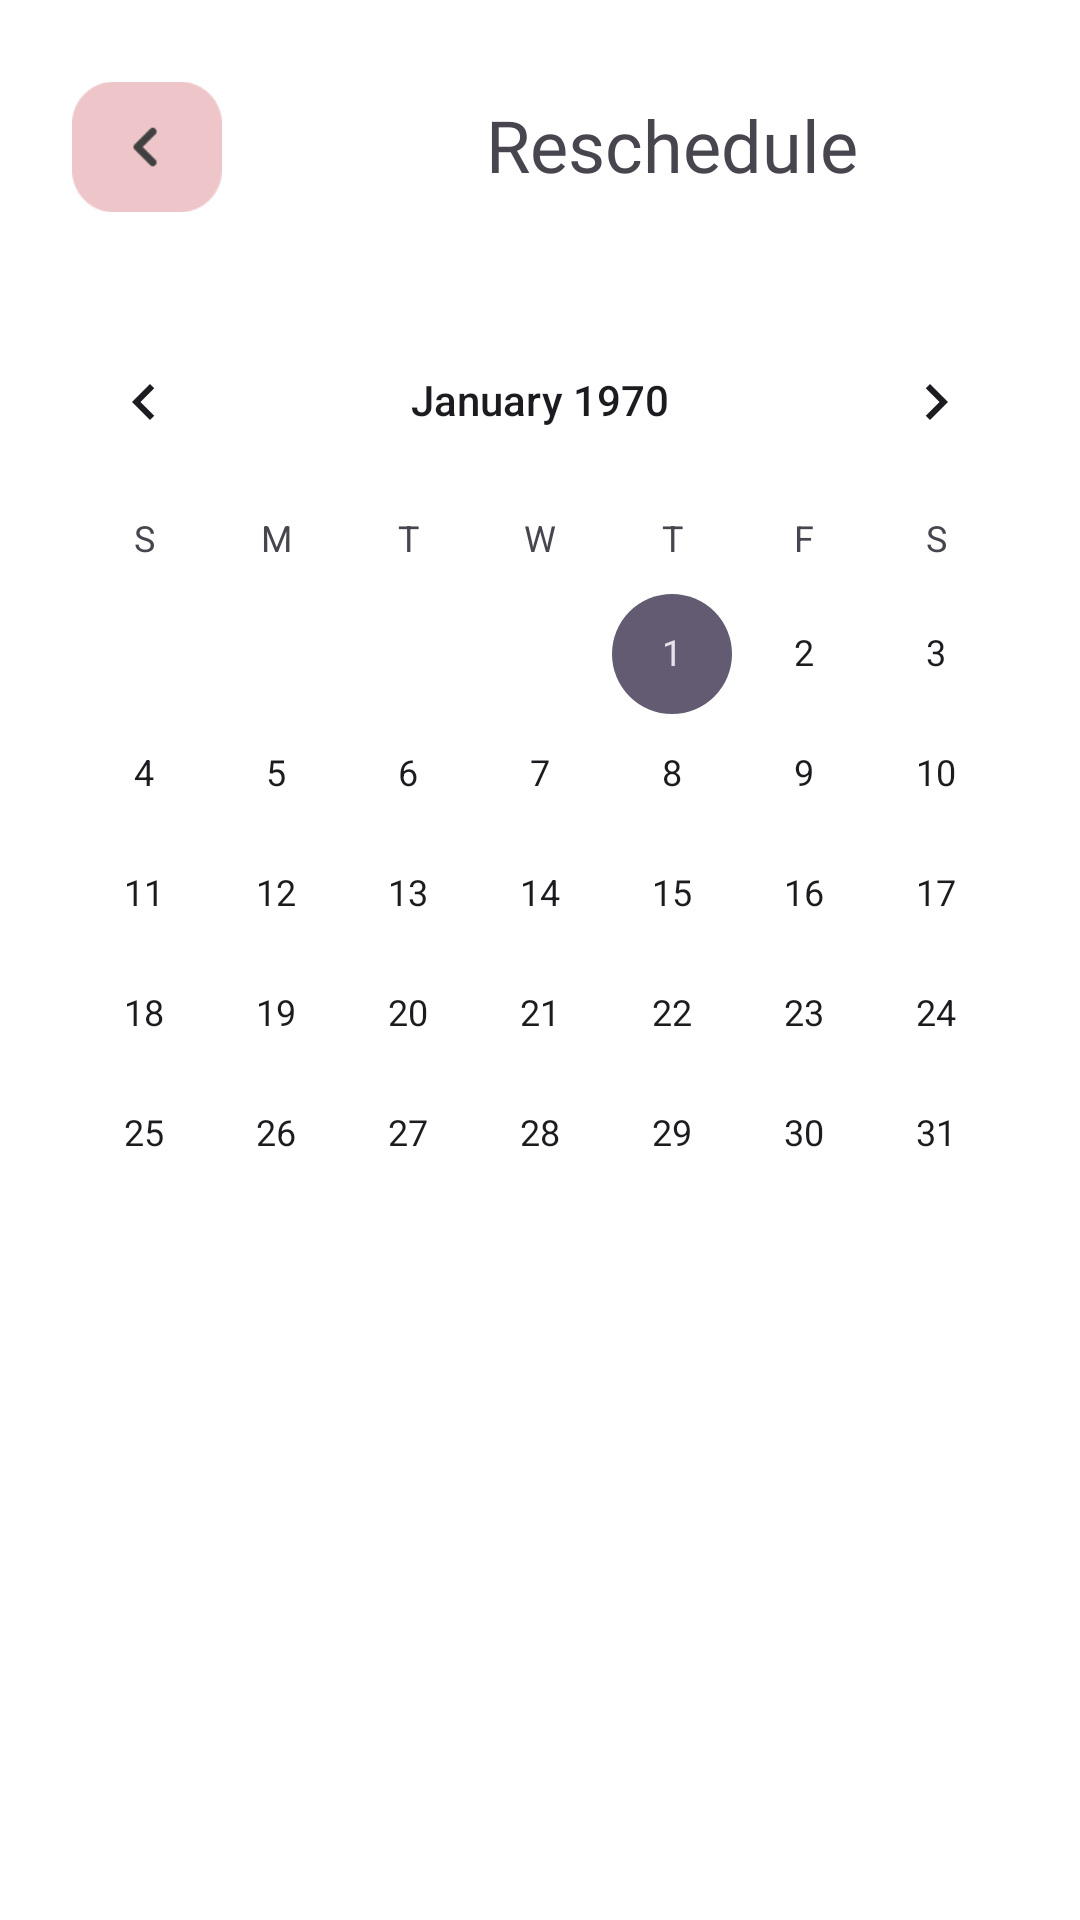

Icon click points for this 1080×1920 phone screenshot, format point (x, y):
arrow: point (147, 147)
